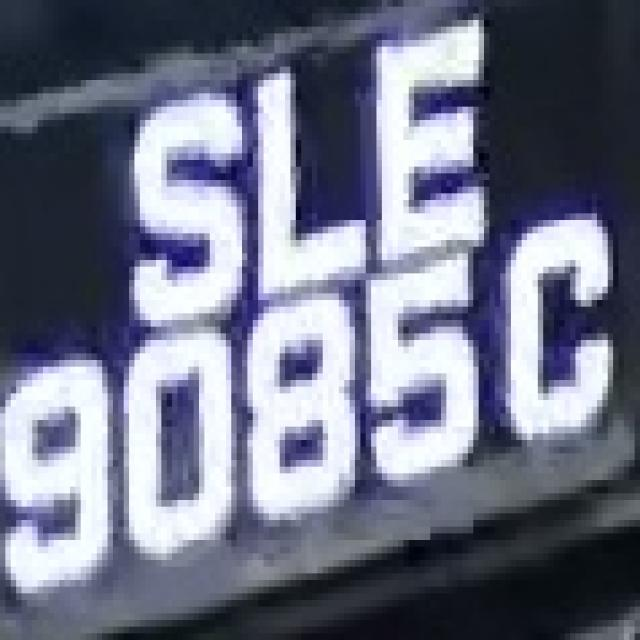0: (108, 313, 248, 567)
5: (344, 227, 495, 493)
8: (242, 287, 360, 560)
9: (5, 327, 119, 600)
C: (495, 193, 613, 480)
E: (360, 13, 506, 260)
L: (237, 54, 371, 314)
S: (124, 67, 242, 320)
